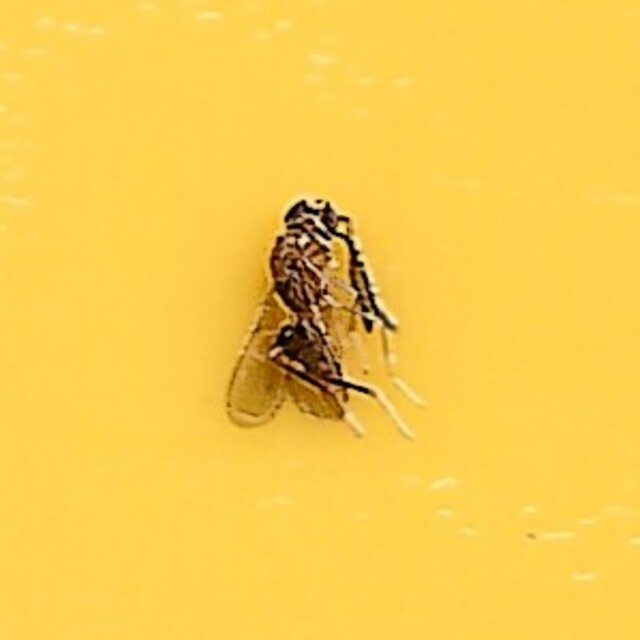Hymenoptera: (214, 194, 426, 446)
